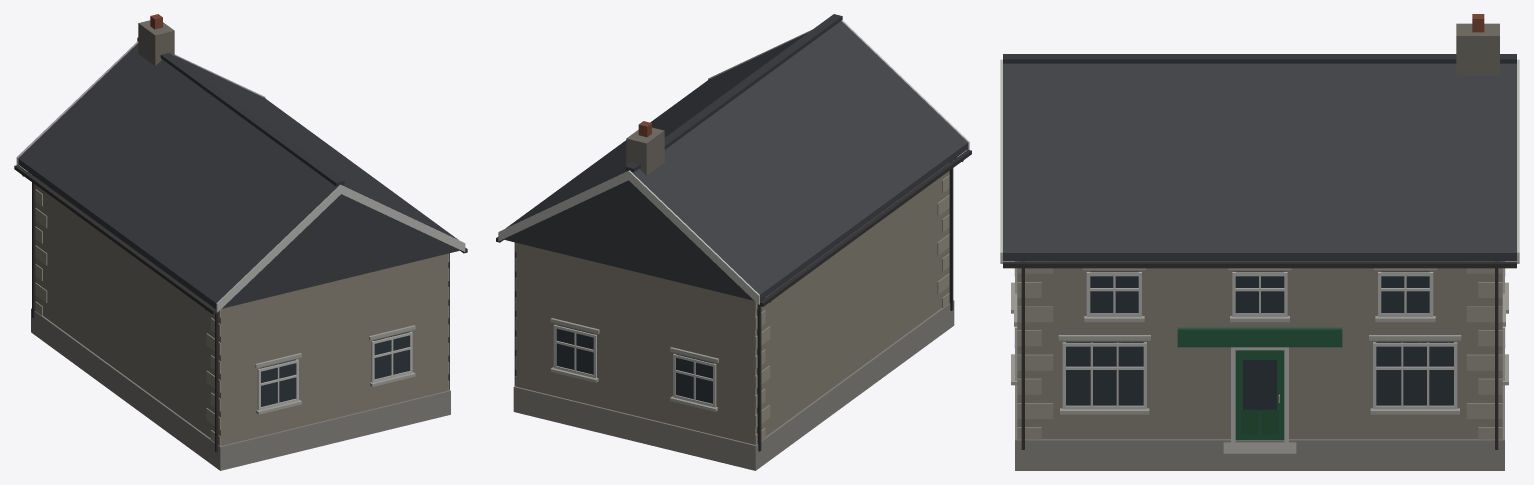
The model's file is SM_Prop_cafe_building_6.glb.
3 views of the same model, side by side, from view 1: azimuth 30°, elevation 25°; view 2: azimuth 150°, elevation 25°; view 3: azimuth 270°, elevation 25° (orthographic). The views are drawn at different scales.
Parts seen in each view (by area): view 1: SM_Prop_cafe_building_6; view 2: SM_Prop_cafe_building_6; view 3: SM_Prop_cafe_building_6.
Part boxes in pixels (x1,y1,x2,y2): SM_Prop_cafe_building_6: (14, 14, 467, 470); SM_Prop_cafe_building_6: (496, 14, 971, 470); SM_Prop_cafe_building_6: (1000, 14, 1519, 470).
Size of the model in its own units: 8.02 by 8.68 by 10.7.
